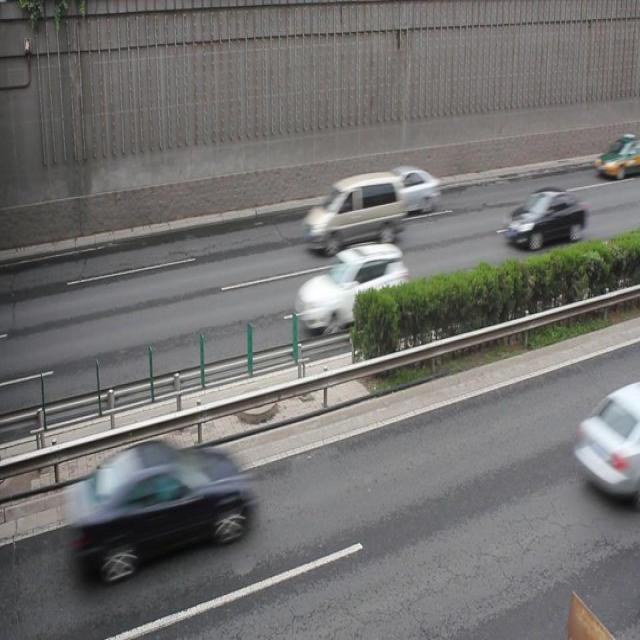car: (75, 433, 253, 573), (293, 242, 407, 331), (572, 384, 640, 494), (503, 187, 585, 249), (384, 163, 439, 214)
truck: (301, 171, 404, 251)
